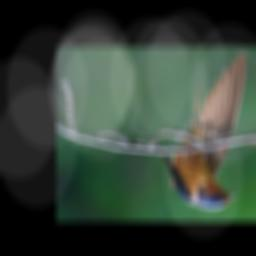Swallow: (154, 51, 250, 211)
